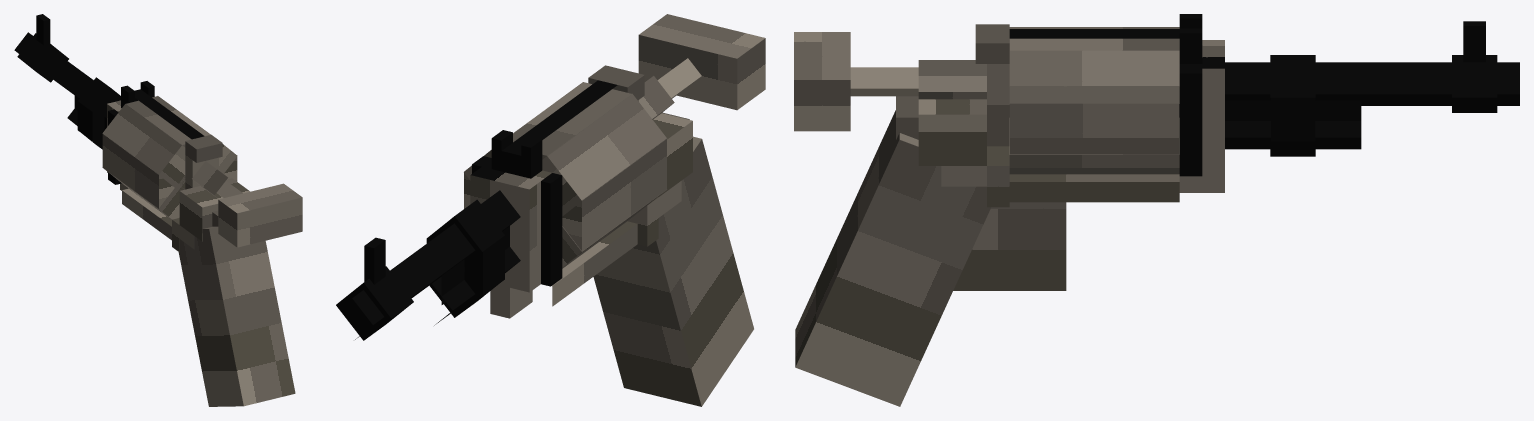
The model's file is jeg_revolver.glb.
3 renders of one model, left to right at view 1: azimuth 30°, elevation 25°; view 2: azimuth 150°, elevation 25°; view 3: azimuth 270°, elevation 25°, orthographic. The views are drawn at different scales.
Parts seen in each view (by area): view 1: Gun; view 2: Gun; view 3: Gun.
Boxes of the visible parts, x1,y1,x2,y2 form: Gun: [14, 14, 302, 406]; Gun: [336, 14, 765, 406]; Gun: [794, 14, 1519, 406].
Size of the model in its own units: 0.0751 by 0.2216 by 0.4.
1 material, 1 textured.
